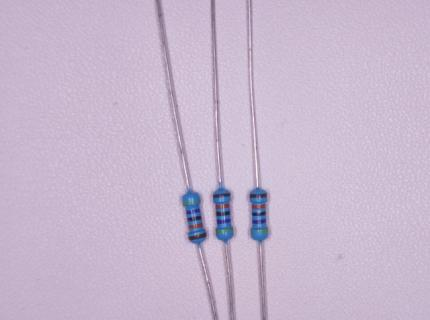Black band: (187, 216, 202, 223), (216, 211, 231, 218), (252, 212, 266, 216)
Brown band: (188, 233, 207, 241), (213, 192, 231, 199), (250, 194, 267, 198)
Orange band: (189, 223, 203, 230), (251, 204, 266, 209), (215, 204, 229, 209)
Violet band: (186, 209, 200, 215), (217, 219, 230, 225), (252, 219, 266, 224)
Yellow band: (182, 200, 200, 206), (216, 228, 234, 233), (251, 228, 269, 232)
